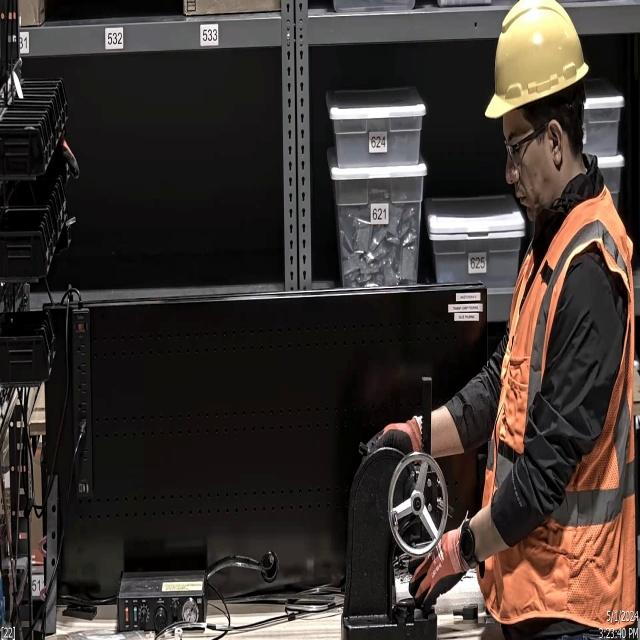construction-gloves: (406, 526, 458, 618)
